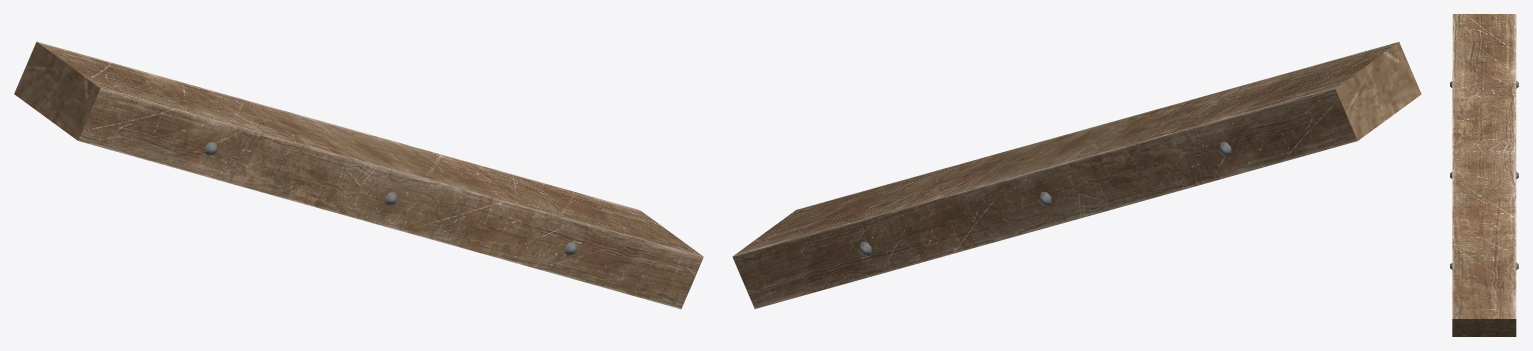
3 views of the same model, side by side, from view 1: azimuth 30°, elevation 25°; view 2: azimuth 150°, elevation 25°; view 3: azimuth 270°, elevation 25° (orthographic). The views are drawn at different scales.
Visible parts, largest first — view 1: SM_BB_T3_Beam_Thin_Large_Shallow_LOD0; view 2: SM_BB_T3_Beam_Thin_Large_Shallow_LOD0; view 3: SM_BB_T3_Beam_Thin_Large_Shallow_LOD0.
Part boxes in pixels (x1=…): SM_BB_T3_Beam_Thin_Large_Shallow_LOD0: x1=14, y1=41, x2=703, y2=309; SM_BB_T3_Beam_Thin_Large_Shallow_LOD0: x1=732, y1=42, x2=1421, y2=308; SM_BB_T3_Beam_Thin_Large_Shallow_LOD0: x1=1450, y1=14, x2=1518, y2=336.
Size of the model in its own units: 3.11 by 1.72 by 0.5927.
1 material, 1 textured.
